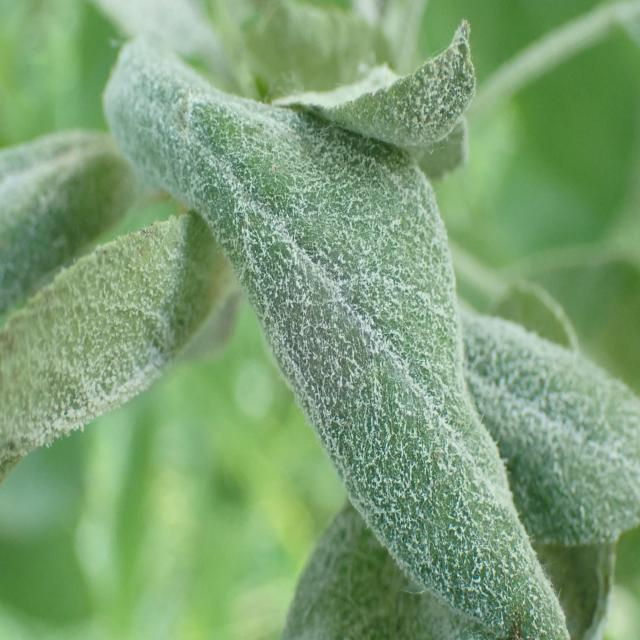Powdery_mildew: (99, 38, 574, 640), (0, 218, 252, 453), (217, 13, 487, 180), (0, 119, 138, 310)
